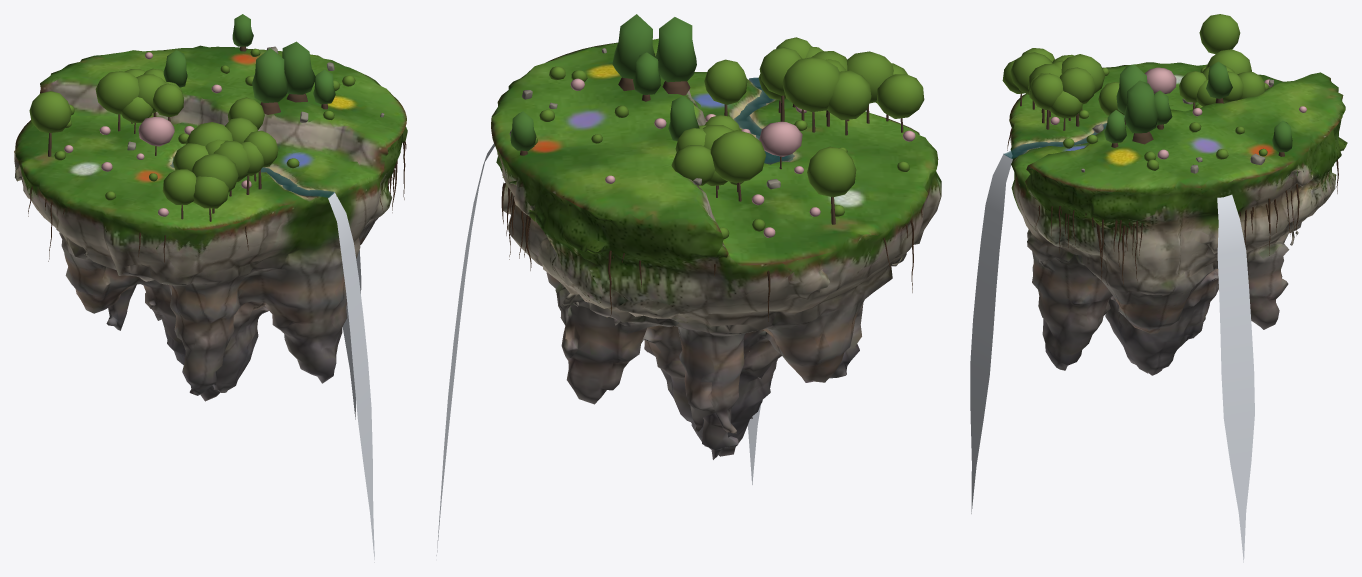
Rendered from island-terrace-lod1.glb.
3 views of the same model, side by side, from view 1: azimuth 30°, elevation 25°; view 2: azimuth 150°, elevation 25°; view 3: azimuth 270°, elevation 25° (orthographic). The views are drawn at different scales.
Parts seen in each view (by area): view 1: Terrain, Detail, Stream; view 2: Terrain, Detail, Stream; view 3: Terrain, Detail, Stream.
Boxes of the visible parts, <box> form: Terrain: <box>14,45,407,401</box>; Detail: <box>28,14,406,562</box>; Stream: <box>261,167,334,197</box>; Terrain: <box>491,38,941,459</box>; Detail: <box>436,14,924,555</box>; Stream: <box>733,77,774,139</box>; Terrain: <box>1009,62,1347,375</box>; Detail: <box>970,14,1338,562</box>; Stream: <box>1004,123,1106,158</box>.
Size of the model in its own units: 77.52 by 95.84 by 74.35.
4 materials, 1 textured.
